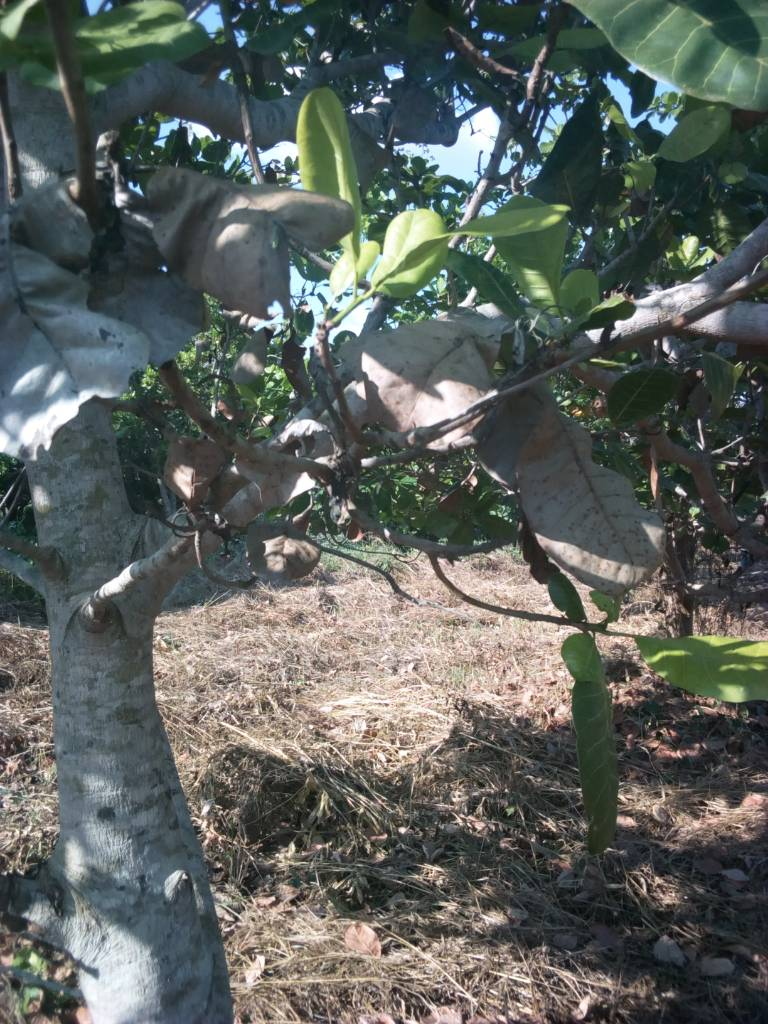Dessèchement des bourgeons: (125, 466, 279, 553)
